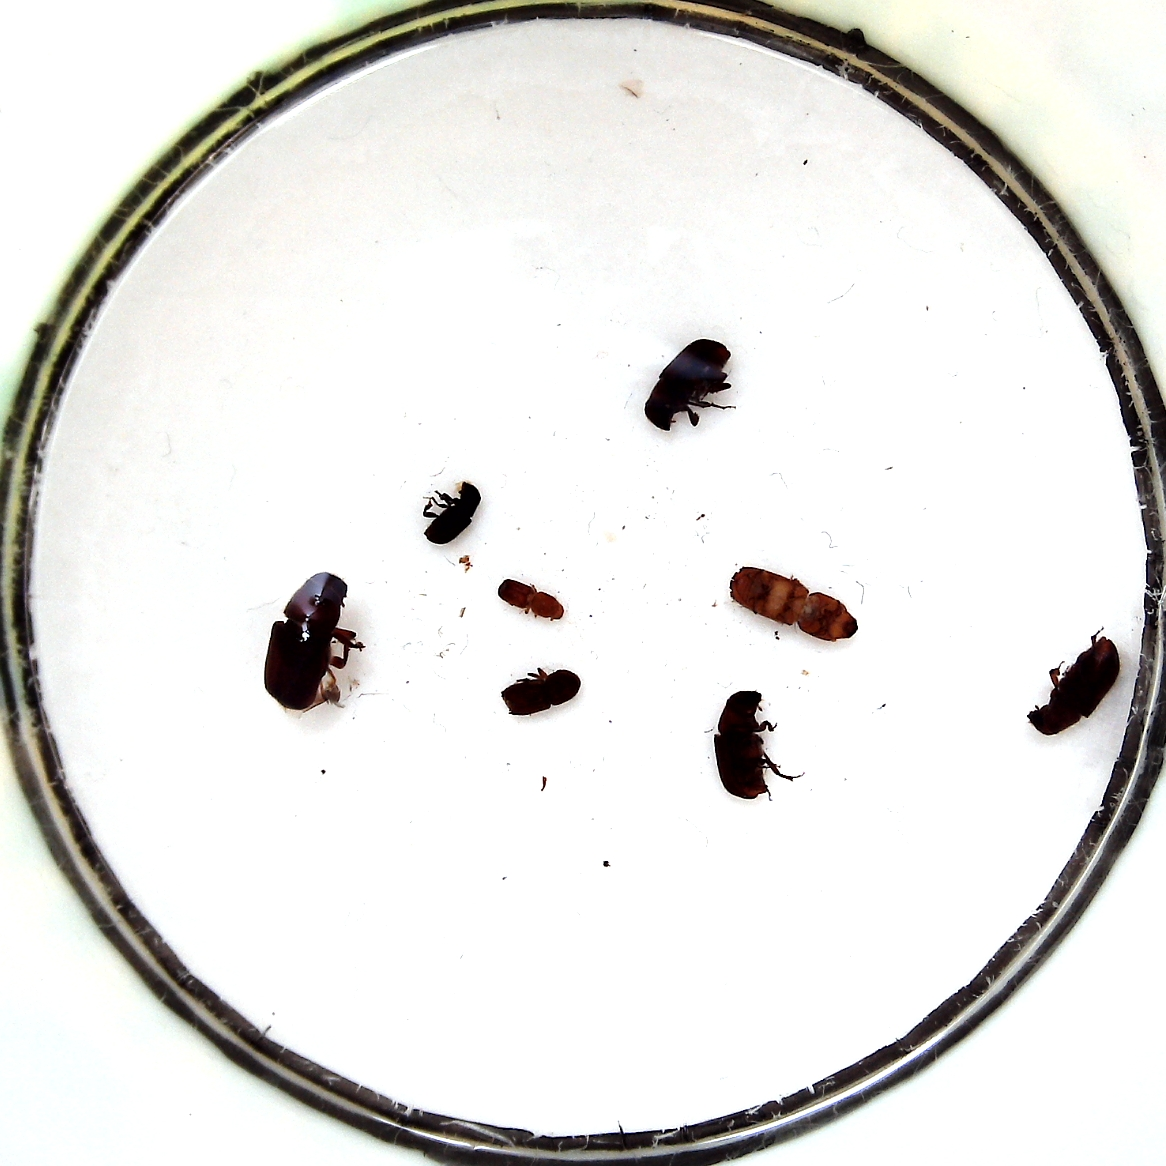Boerner: (728, 562, 860, 644)
Leconte: (262, 566, 362, 713), (1028, 634, 1121, 736), (710, 687, 788, 800), (641, 338, 734, 431)
Linnaeus: (500, 666, 585, 715)
acuminatus: (495, 577, 567, 623)
armandi: (423, 475, 482, 548)
